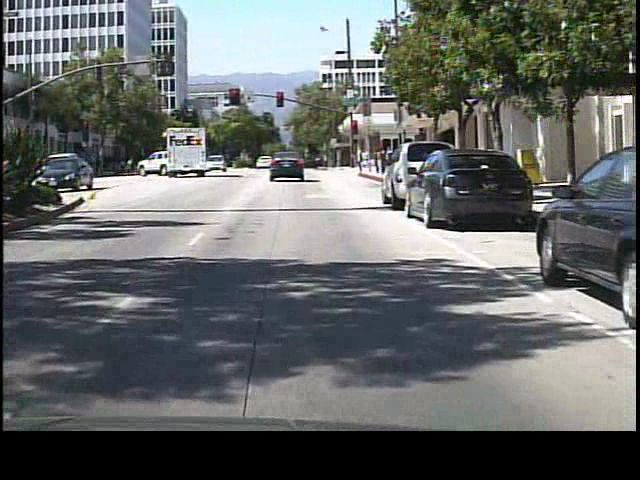person: (353, 146, 369, 178)
